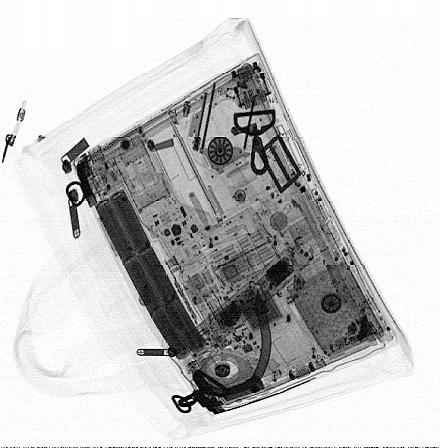Baton: (192, 235, 315, 354)
